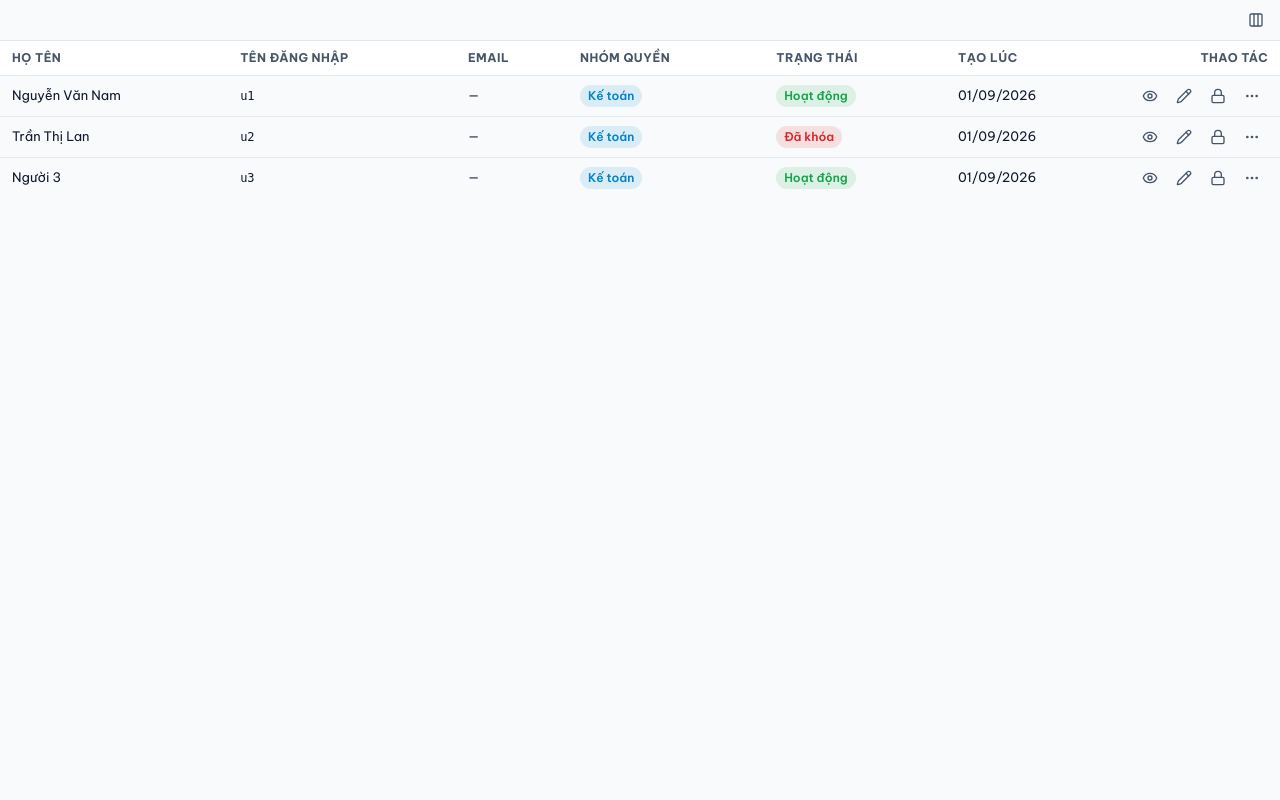
Scenario: UsersTable › Cấp lại mật khẩu: xác nhận → mật khẩu tạm hiện đúng 1 lần trong hộp thoại; đóng thì biến mất
The image size is (1280, 800).
Click the button named "Thêm thao tác" in the row of "Người 3".
click(1252, 178)  # box [1236,162,1268,194]
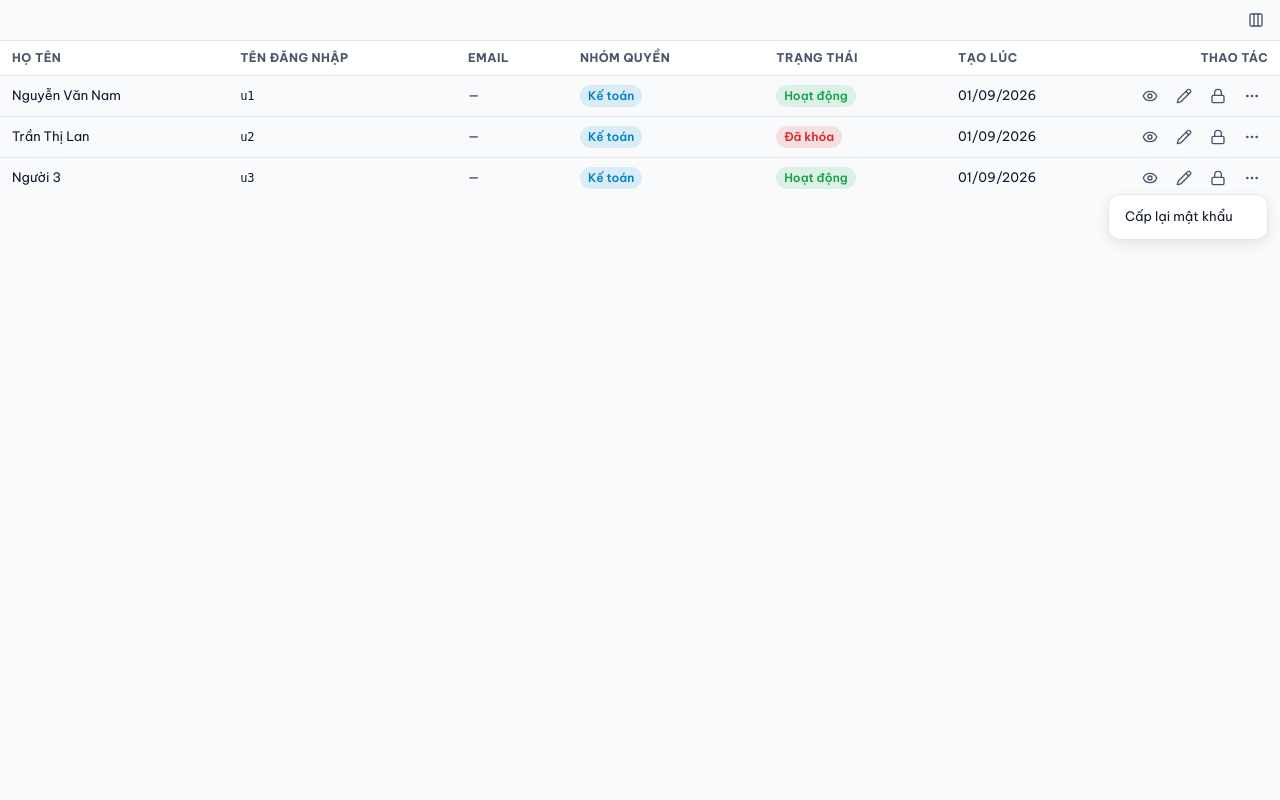
Click the menu item "Cấp lại mật khẩu".
click(1179, 216)  # box [1125,208,1233,224]
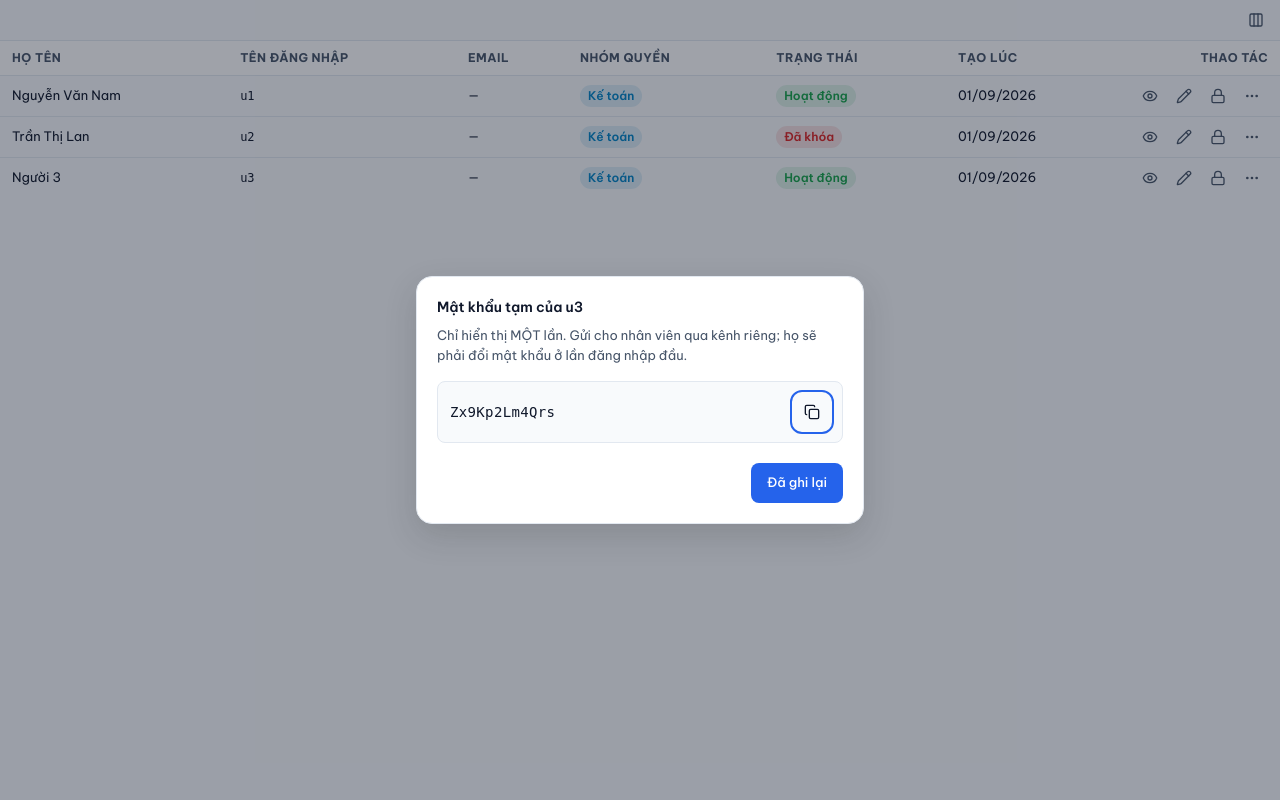
Now the text "Zx9Kp2Lm4Qrs" is shown, box [450,402,555,422]
Click the button "Đã ghi lại".
click(797, 483)  # box [751,463,843,503]
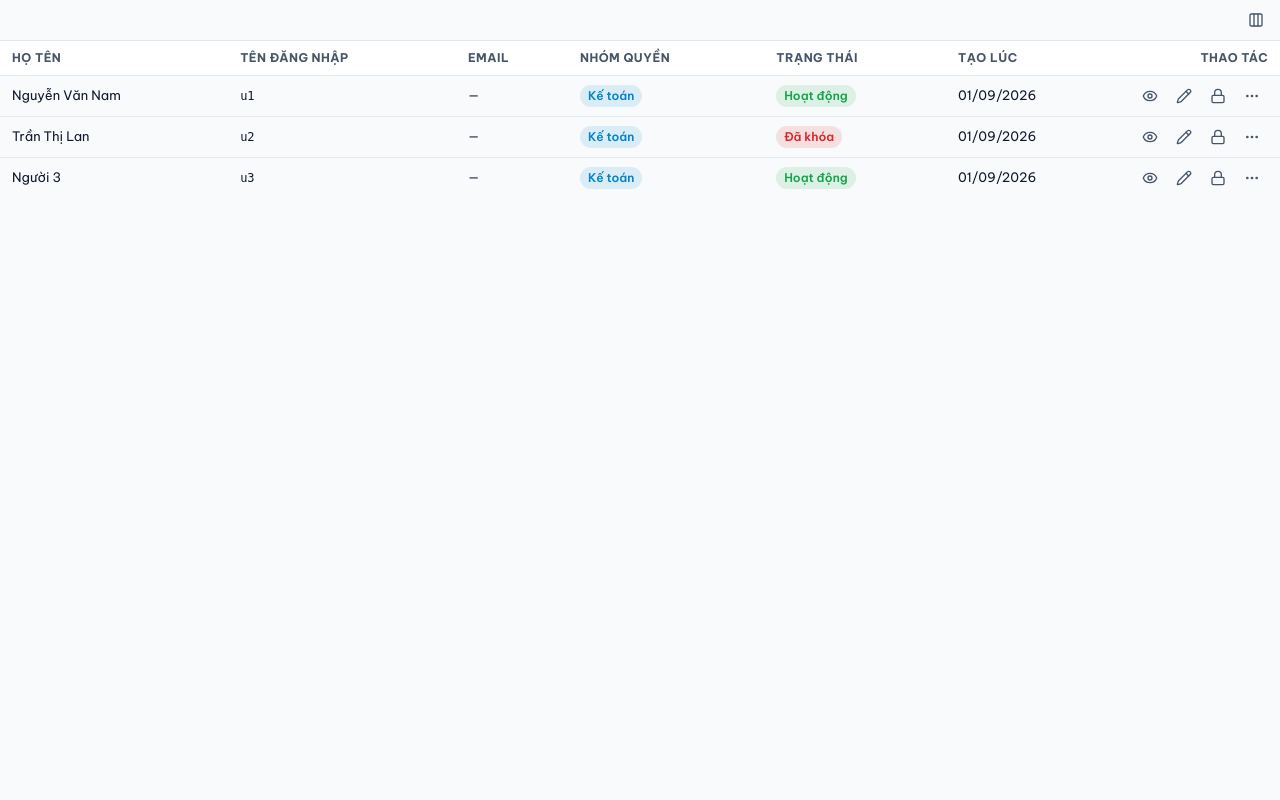
Now the text "Zx9Kp2Lm4Qrs" is gone
